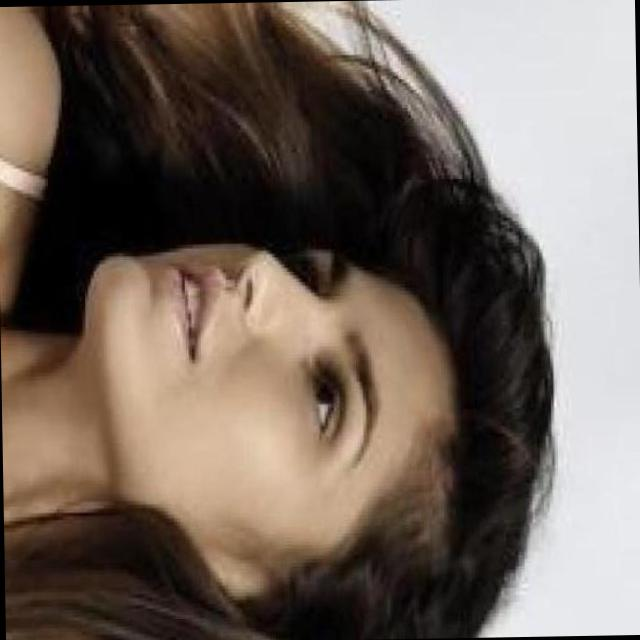bareface: (52, 202, 466, 544)
